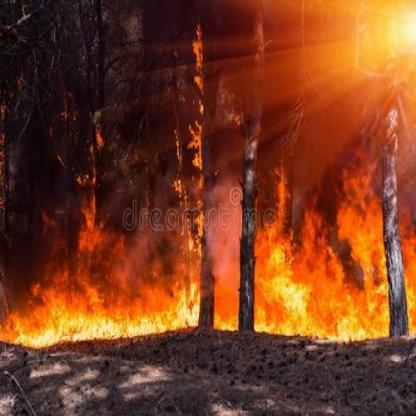fire: (7, 201, 409, 344), (188, 22, 211, 200)
